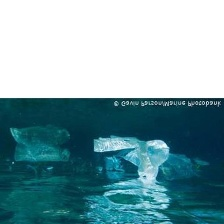plastic_bag: (90, 132, 173, 185), (8, 120, 75, 165)
